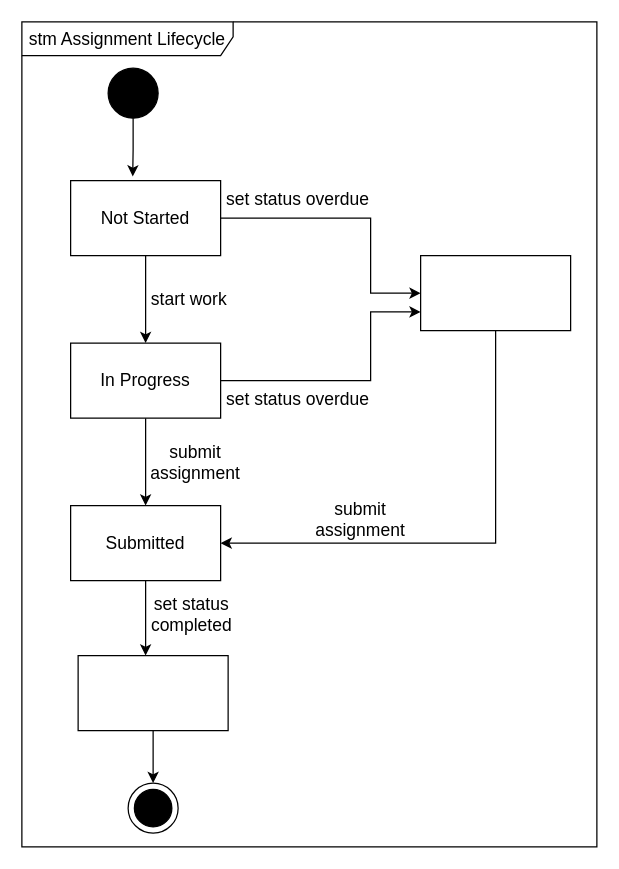
Image size: 619x869. Some labels were removed from this diagram. Each missing label, with the centre of its shape:
Completed: [152,692]
Overdue: [495,292]
